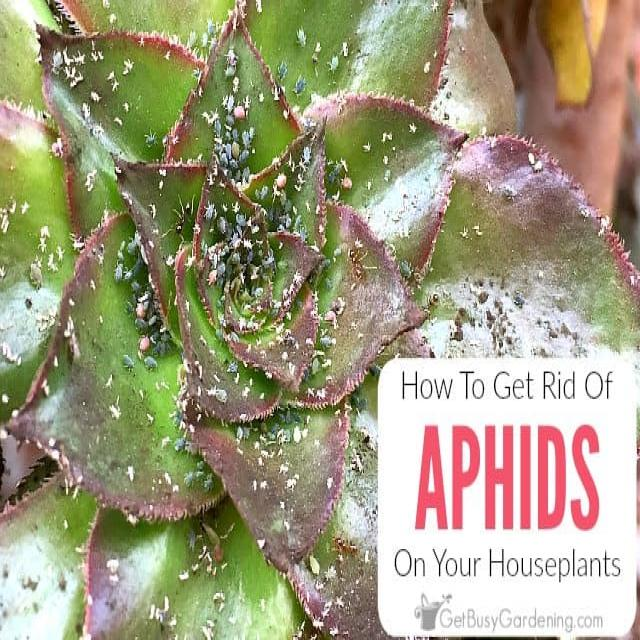Aphid-Grouped-: (167, 66, 323, 395), (42, 38, 155, 152), (109, 242, 164, 362)
